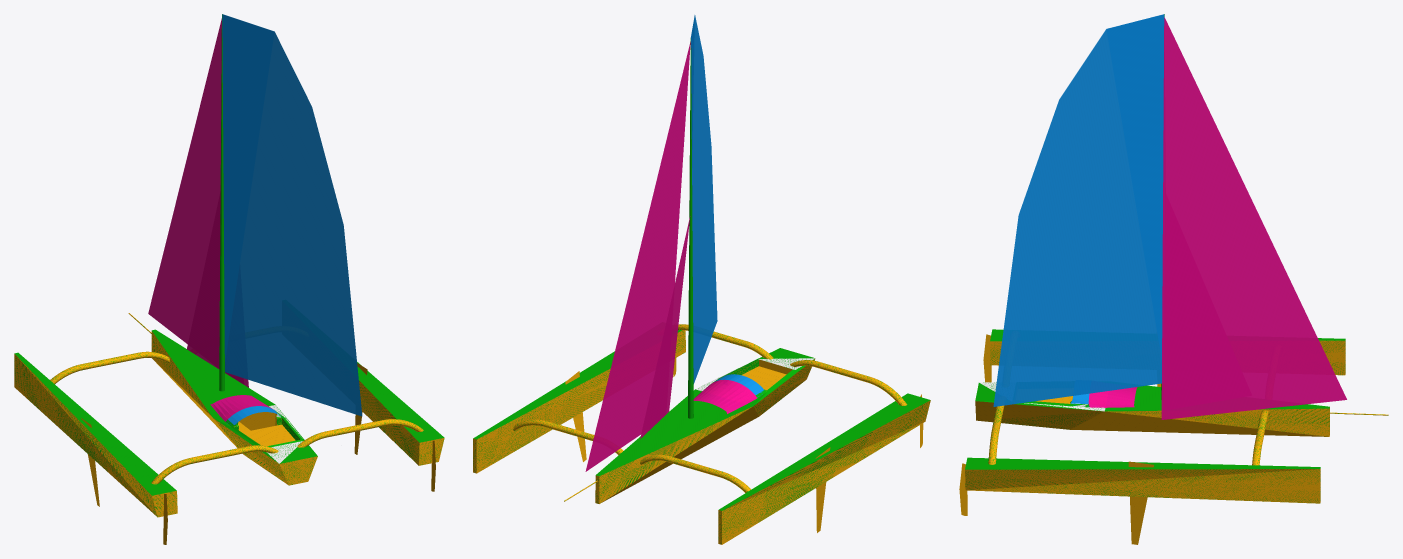
File: TRIMARAN_GENOIS_BABORD.dae
3 views of the same model, side by side, from view 1: azimuth 30°, elevation 25°; view 2: azimuth 150°, elevation 25°; view 3: azimuth 270°, elevation 25° (orthographic). The views are drawn at different scales.
Visible parts, largest first — view 1: SketchUp (×17); view 2: SketchUp (×17); view 3: SketchUp (×12).
Part boxes in pixels (x1,y1,x2,y2): SketchUp (×17): (14,14,444,517); SketchUp (×17): (473,15,930,544); SketchUp (×12): (965,14,1346,544).
Bounding box in the file's own units: 90181 × 111154 × 135024.
